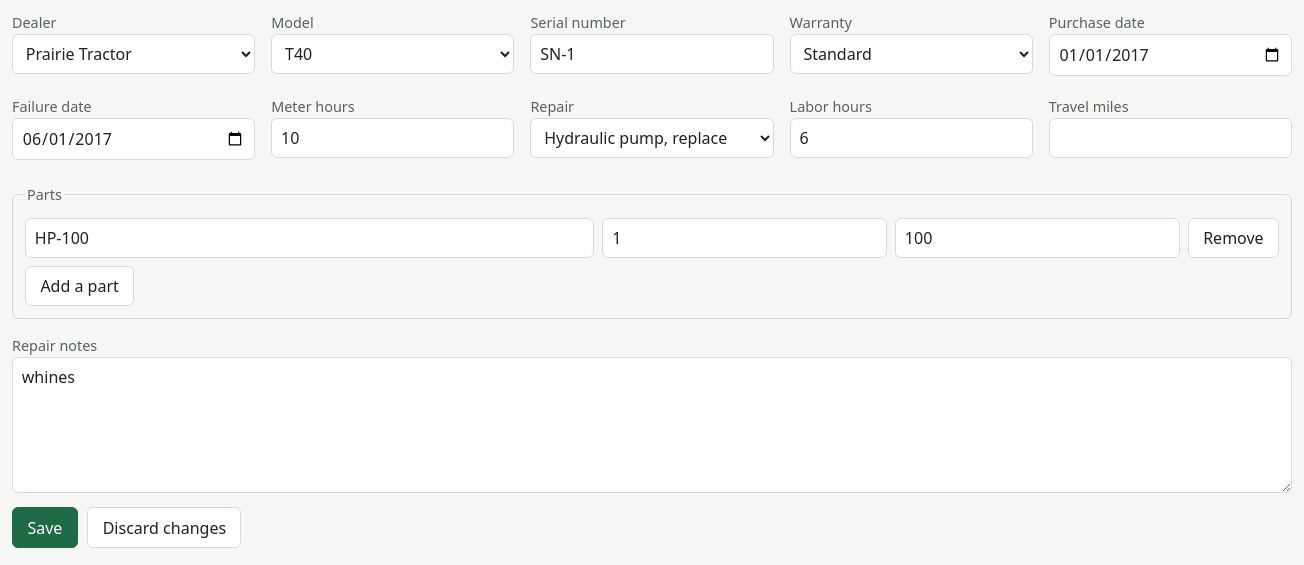
Test case: two people editing › will not save mine over a decided claim
What coordinates should you click on to do the following:
click the button "Save"
I would click on:
 (45, 528)
Its box is top-left (12, 507), bottom-right (78, 548).
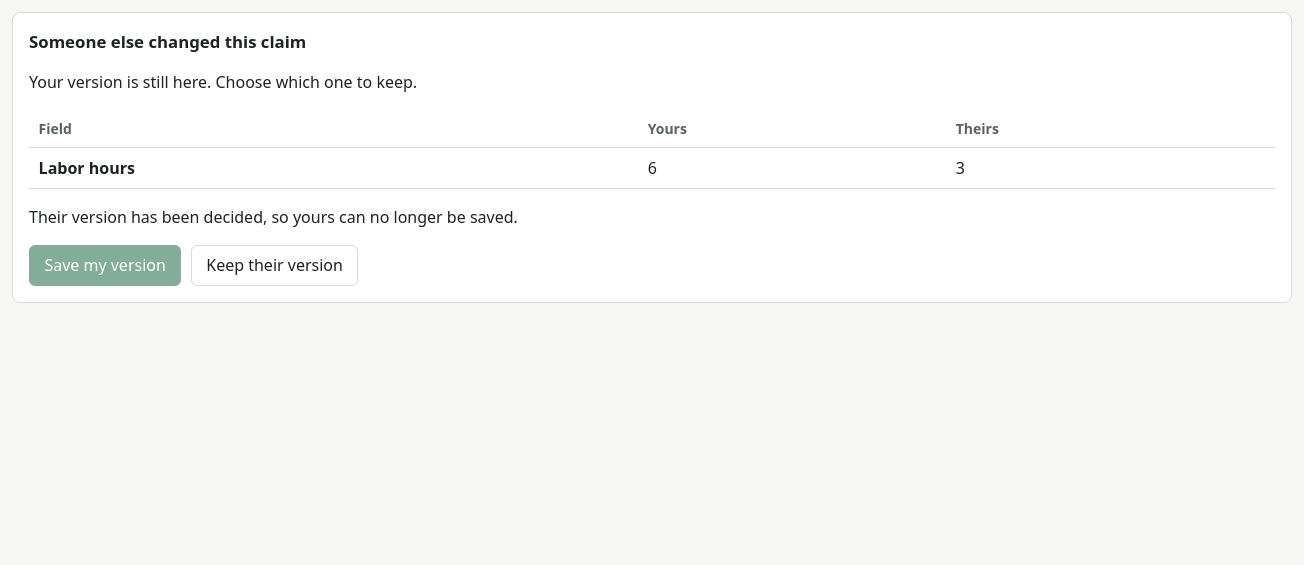
Result: the button "Save my version" is disabled at top-left (29, 245), bottom-right (181, 286)
